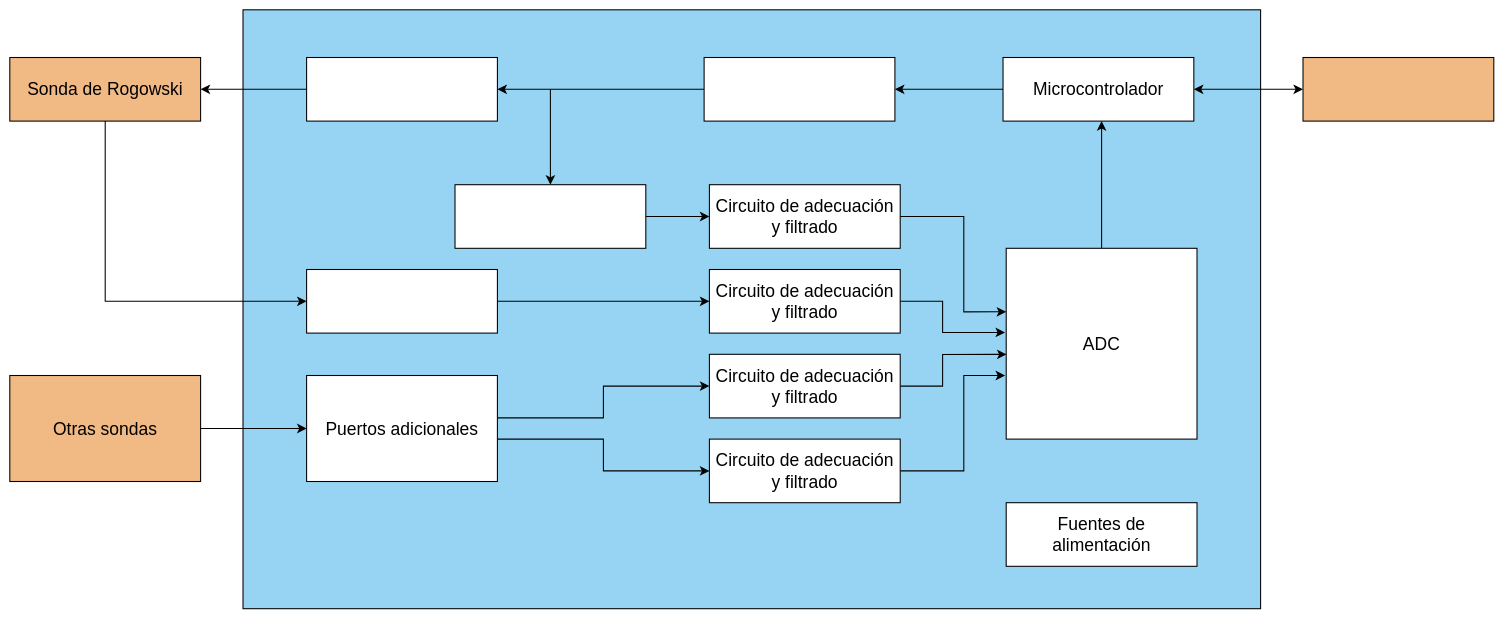
This 1503x618 diagram has some shape labels left out. Here are the shapes that lost their labels. From the top down, the centre of each, then its label:
[402,89]: Multiplicador de corriente
[799,89]: Puente H
[1398,89]: PC
[550,216]: Sensor de corriente
[402,301]: Puerto sonda de Rogowski
